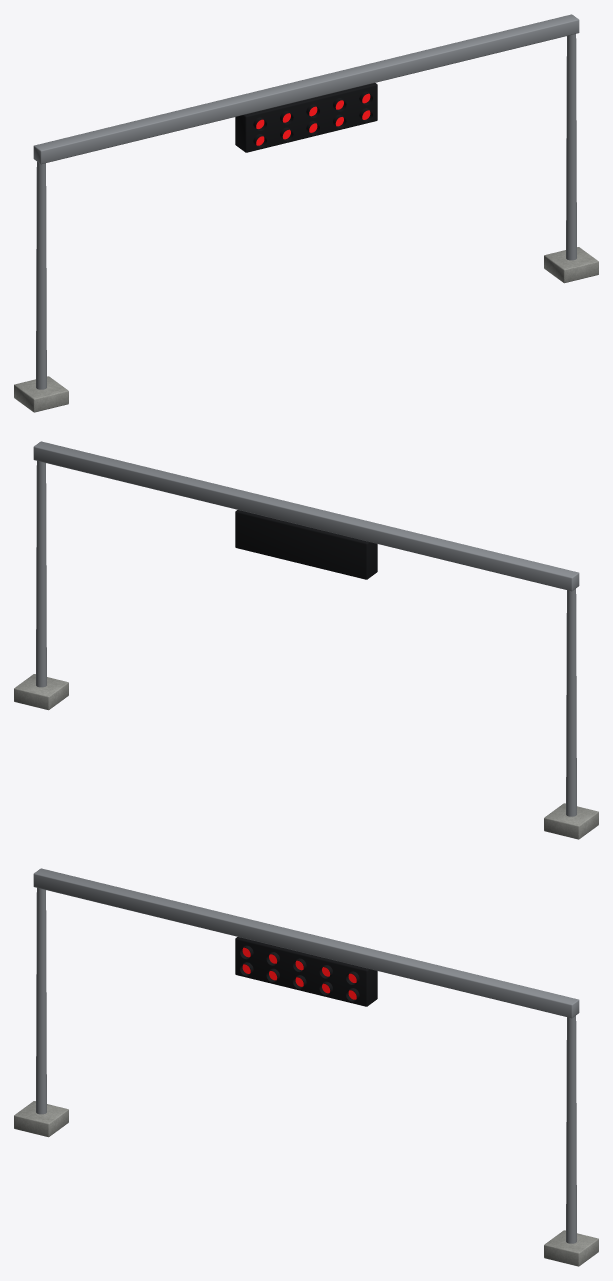
The model's file is start-lights.glb.
3 renders of one model, top to bottom at view 1: azimuth 30°, elevation 25°; view 2: azimuth 150°, elevation 25°; view 3: azimuth 330°, elevation 25°, orthographic.
Visible parts, largest first — view 1: Gantry; view 2: Gantry; view 3: Gantry.
Part boxes in pixels (x1,y1,x2,y2): Gantry: (14,14,598,412); Gantry: (14,441,598,839); Gantry: (14,868,598,1266).
Size of the model in its own units: 12.8 by 5.5 by 0.8.
Materials: 5 (1 with a texture image).
